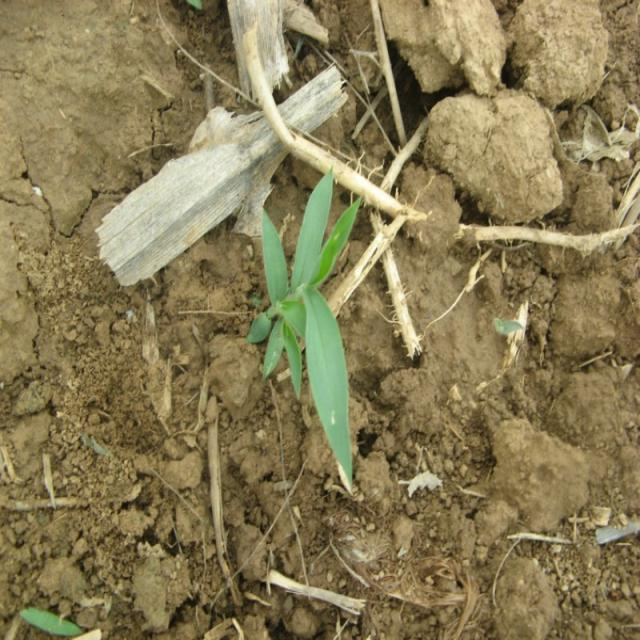bg: (252, 168, 368, 496)
